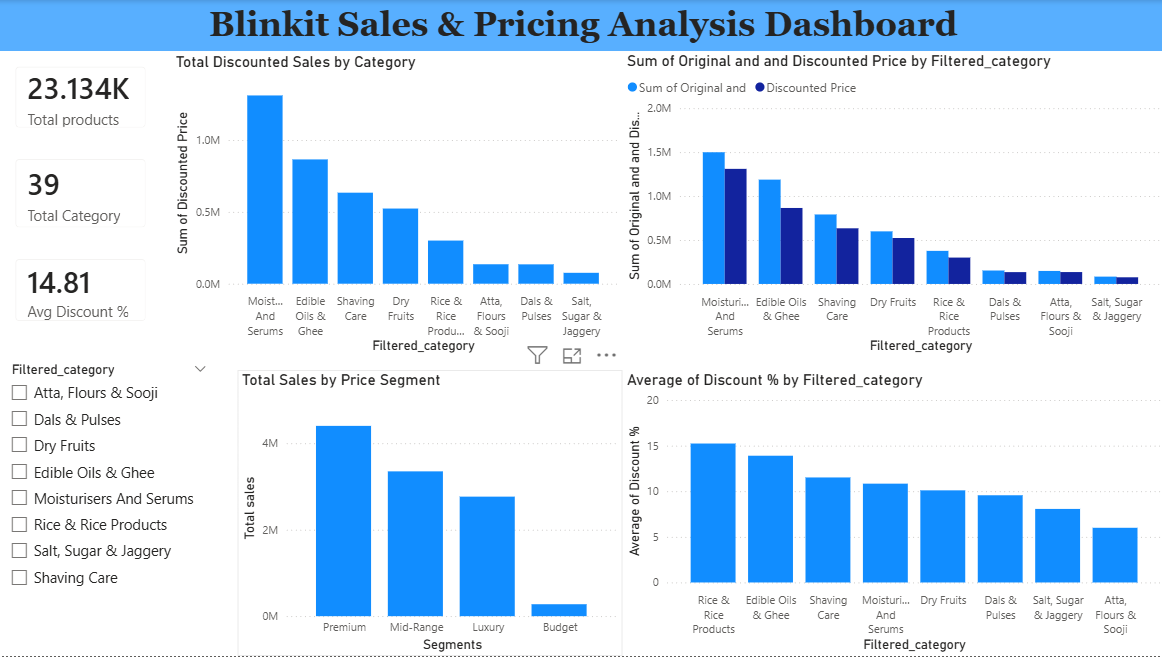

The page's visual inventory and layout, read from the dashboard file:
{"tool":"powerbi","page":{"name":"Page 1","canvas":[1280,720],"ordinal":0},"visuals":[{"type":"columnChart","title":"Total Discounted Sales by Category","fields":{"Category":["Blink it project.Filtered_category"],"Y":["Sum(Blink it project.Discounted Price )"]},"box":[188,57.6,495.4,334.8],"z":0},{"type":"slicer","fields":{"Values":["Blink it project.Filtered_category"]},"box":[0,392.5,238.8,328],"z":1000},{"type":"clusteredColumnChart","fields":{"Y":["Sum(Blink it project.Original Price )","Sum(Blink it project.Discounted Price )"],"Category":["Blink it project.Filtered_category"]},"box":[683.4,56.3,596.9,336.2],"z":2000},{"type":"clusteredColumnChart","fields":{"Y":["Avg(Blink it project.Discount %)"],"Category":["Blink it project.Filtered_category"]},"box":[683.4,406.2,596.9,314.2],"z":3000},{"type":"columnChart","title":"Total Sales by Price Segment","fields":{"Category":["Blink it project.Price_range"],"Y":["Sum(Blink it project.Original Price )"]},"box":[260.7,406.2,422.6,314.2],"z":4000},{"type":"textbox","box":[0,0,1280.3,56.3],"z":5000},{"type":"cardVisual","title":"Total Products","fields":{"Data":["CountNonNull(Blink it project.Product Name)"]},"box":[0,56.3,177,101.5],"z":6000},{"type":"cardVisual","fields":{"Data":["Count(Blink it project.Category)"]},"box":[0,157.8,177,109.8],"z":7000},{"type":"cardVisual","fields":{"Data":["Avg(Blink it project.Discount %)"]},"box":[0,267.6,177,102.9],"z":8000}]}

Visuals, with their boxes in screenshot pixels (x1, y1, x2, y2), scaled from the page's 1280x720 canvas onto the 1162x657 screenshot:
"Total Discounted Sales by Category" columnChart: box=[171, 53, 620, 358]
slicer - Blink it project.Filtered_category: box=[0, 358, 217, 656]
clusteredColumnChart - Sum(Blink it project.Original Price ) x Sum(Blink it project.Discounted Price ): box=[620, 51, 1161, 358]
clusteredColumnChart - Avg(Blink it project.Discount %) x Blink it project.Filtered_category: box=[620, 371, 1161, 656]
"Total Sales by Price Segment" columnChart: box=[237, 371, 620, 656]
textbox: box=[0, 0, 1161, 51]
"Total Products" cardVisual: box=[0, 51, 161, 144]
cardVisual - Count(Blink it project.Category): box=[0, 144, 161, 244]
cardVisual - Avg(Blink it project.Discount %): box=[0, 244, 161, 338]
